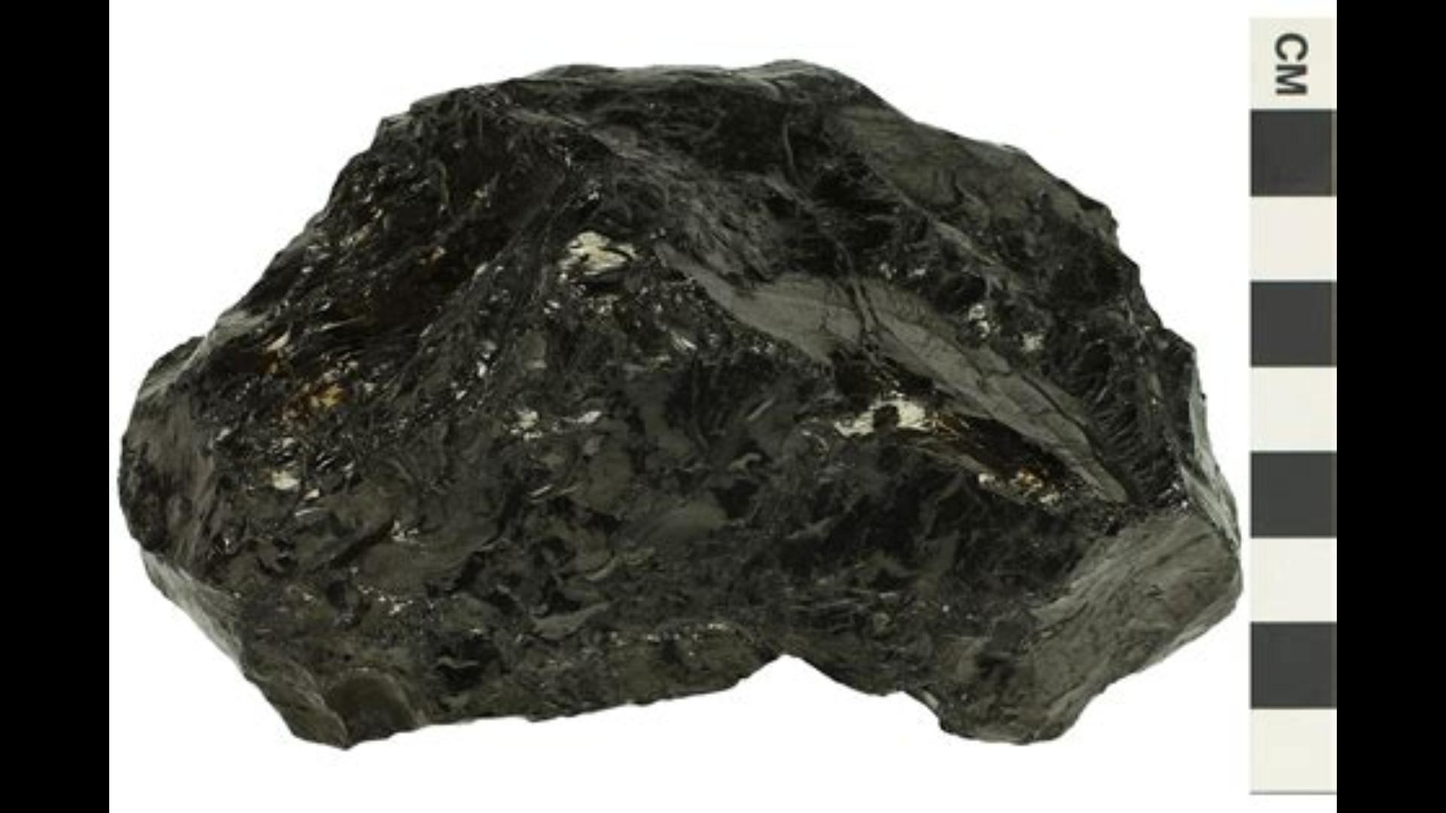rock: (120, 67, 1239, 738)
